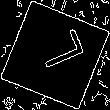L_SW: (26, 31, 84, 79)
